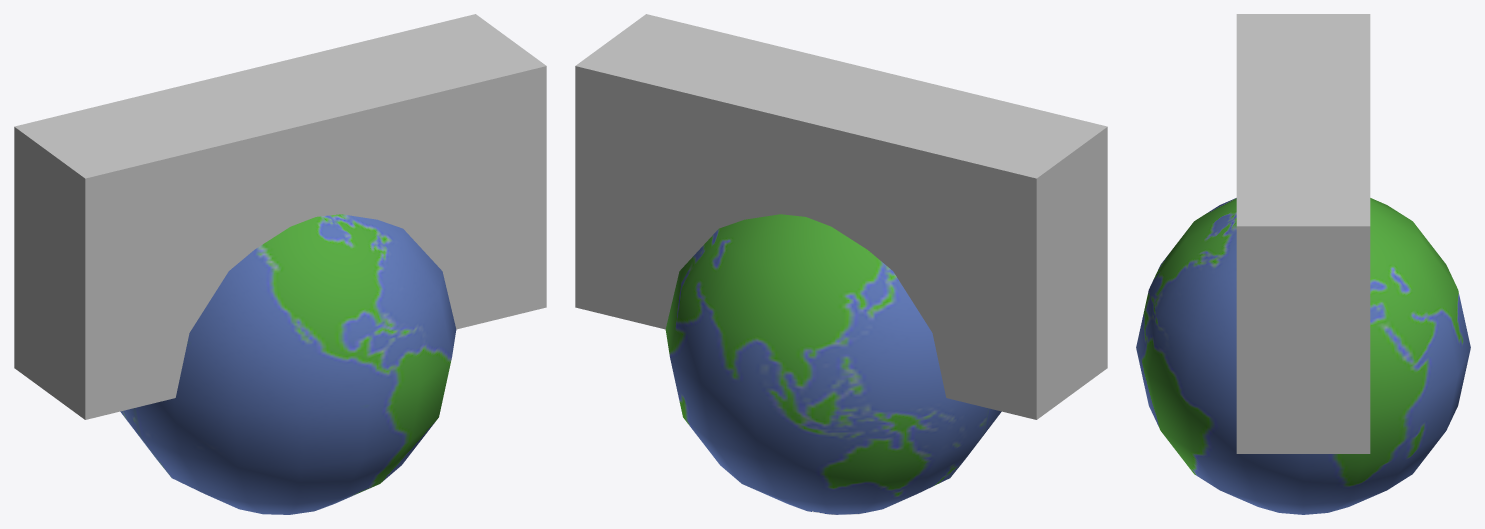
The model's file is SK_Firewall.fbx.
3 views of the same model, side by side, from view 1: azimuth 30°, elevation 25°; view 2: azimuth 150°, elevation 25°; view 3: azimuth 270°, elevation 25° (orthographic). The views are drawn at different scales.
Visible parts, largest first — view 1: SM_Firewall, SM_Planet; view 2: SM_Firewall, SM_Planet; view 3: SM_Firewall, SM_Planet.
Boxes of the visible parts, box(x1,y1,x2,y2) form: SM_Firewall: box(14, 14, 546, 419); SM_Planet: box(120, 214, 456, 514); SM_Firewall: box(575, 14, 1107, 419); SM_Planet: box(665, 214, 1001, 514); SM_Firewall: box(1236, 14, 1370, 453); SM_Planet: box(1136, 198, 1470, 514).
Size of the model in its own units: 600 by 500 by 400.
